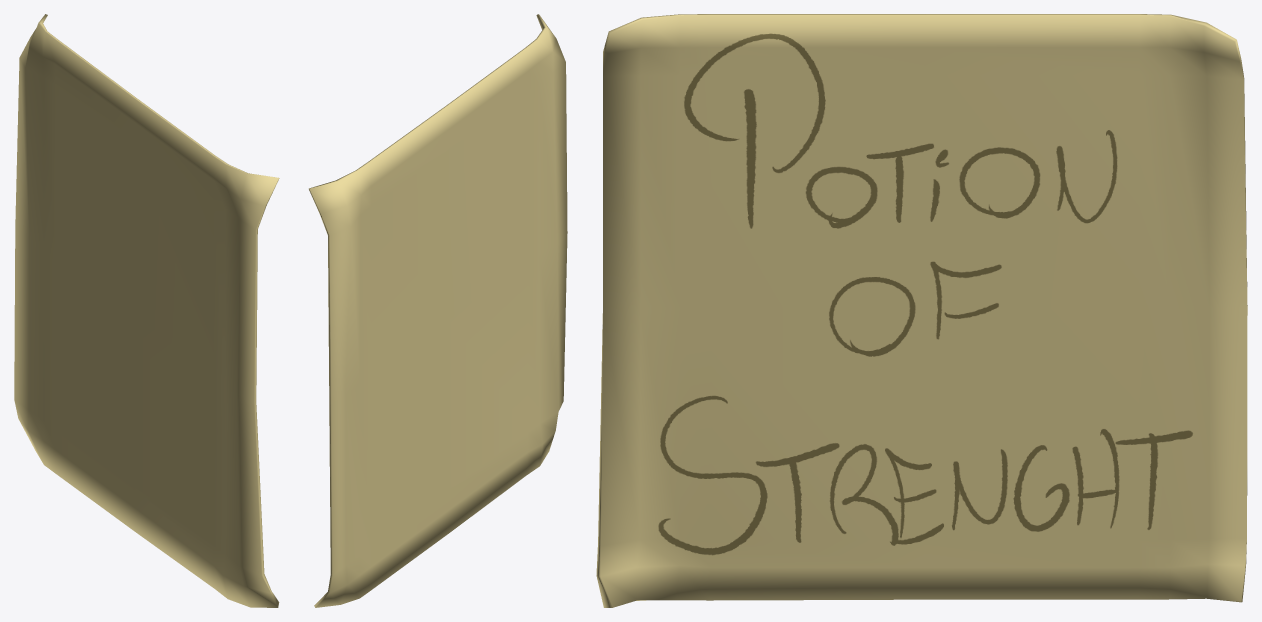
File: papelPotionOfStrenght.fbx
3 renders of one model, left to right at view 1: azimuth 30°, elevation 25°; view 2: azimuth 150°, elevation 25°; view 3: azimuth 270°, elevation 25°, orthographic. The views are drawn at different scales.
Parts seen in each view (by area): view 1: Papel; view 2: Papel; view 3: Papel.
Boxes of the visible parts, x1,y1,x2,y2 form: Papel: (14,14,279,607); Papel: (309,14,567,607); Papel: (596,14,1247,607).
Bounding box in the file's own units: 16.28 × 200 × 202.
